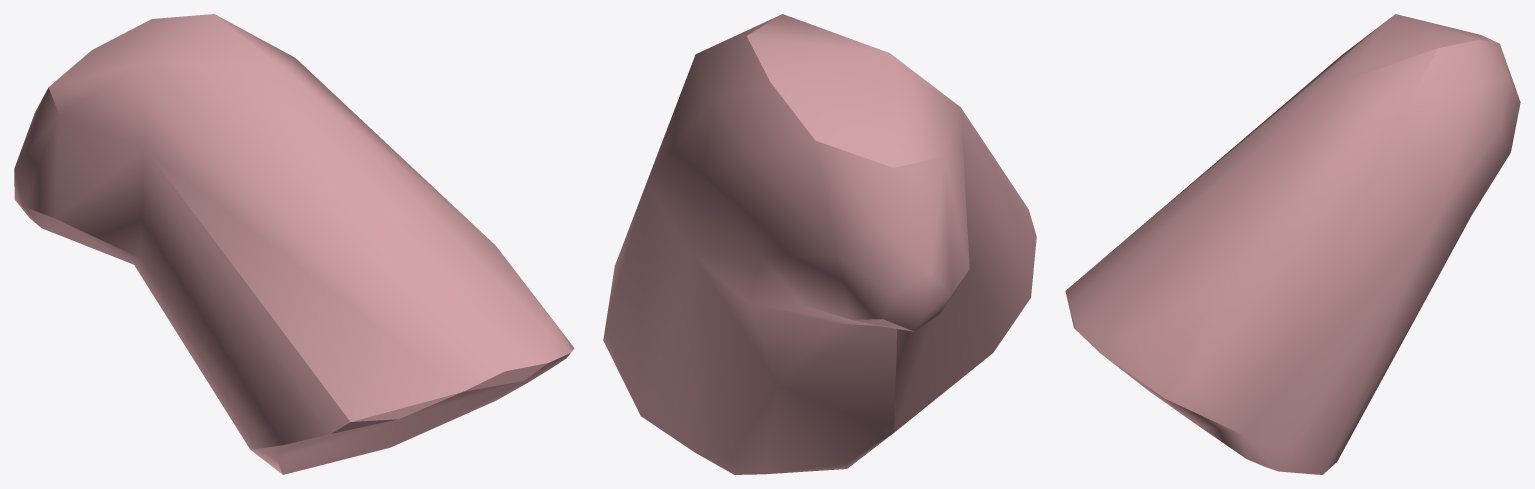
Rendered from fma55116_fj2776.glb.
3 renders of one model, left to right at view 1: azimuth 30°, elevation 25°; view 2: azimuth 150°, elevation 25°; view 3: azimuth 270°, elevation 25°, orthographic. The views are drawn at different scales.
Parts seen in each view (by area): view 1: FMA55116_FJ2776; view 2: FMA55116_FJ2776; view 3: FMA55116_FJ2776.
Boxes of the visible parts, left/top/right/bottom form: FMA55116_FJ2776: left=14, top=14, right=574, bottom=474; FMA55116_FJ2776: left=603, top=14, right=1036, bottom=474; FMA55116_FJ2776: left=1065, top=14, right=1520, bottom=474.
Bounding box in the file's own units: 0.00148 × 0.0015 × 0.00162.
